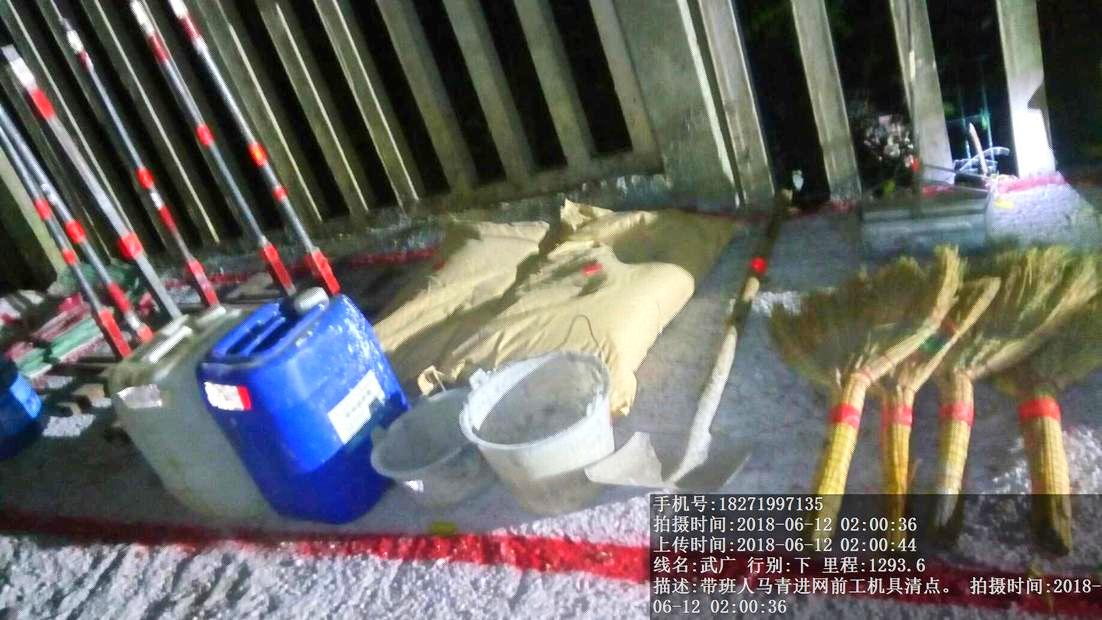SB: (936, 236, 1081, 488), (768, 264, 920, 502)
SLT: (193, 299, 414, 521)
T: (461, 342, 613, 513)
